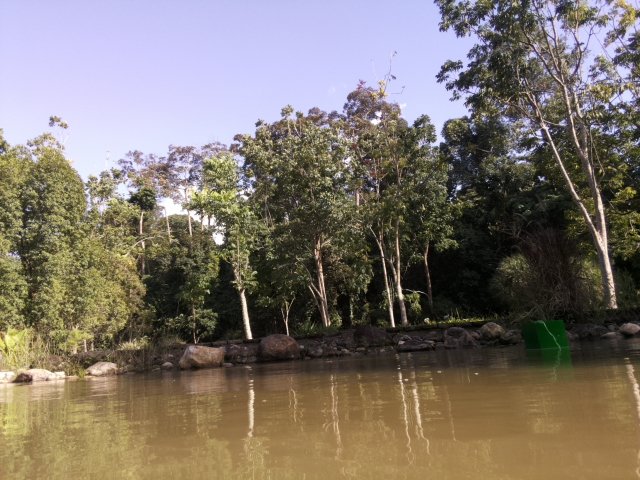obstacle: (522, 318, 569, 353)
